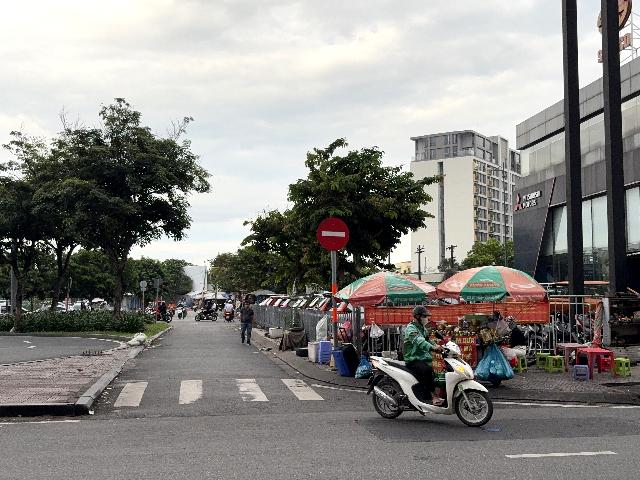cam-di-nguoc-chieu: (317, 217, 350, 251)
